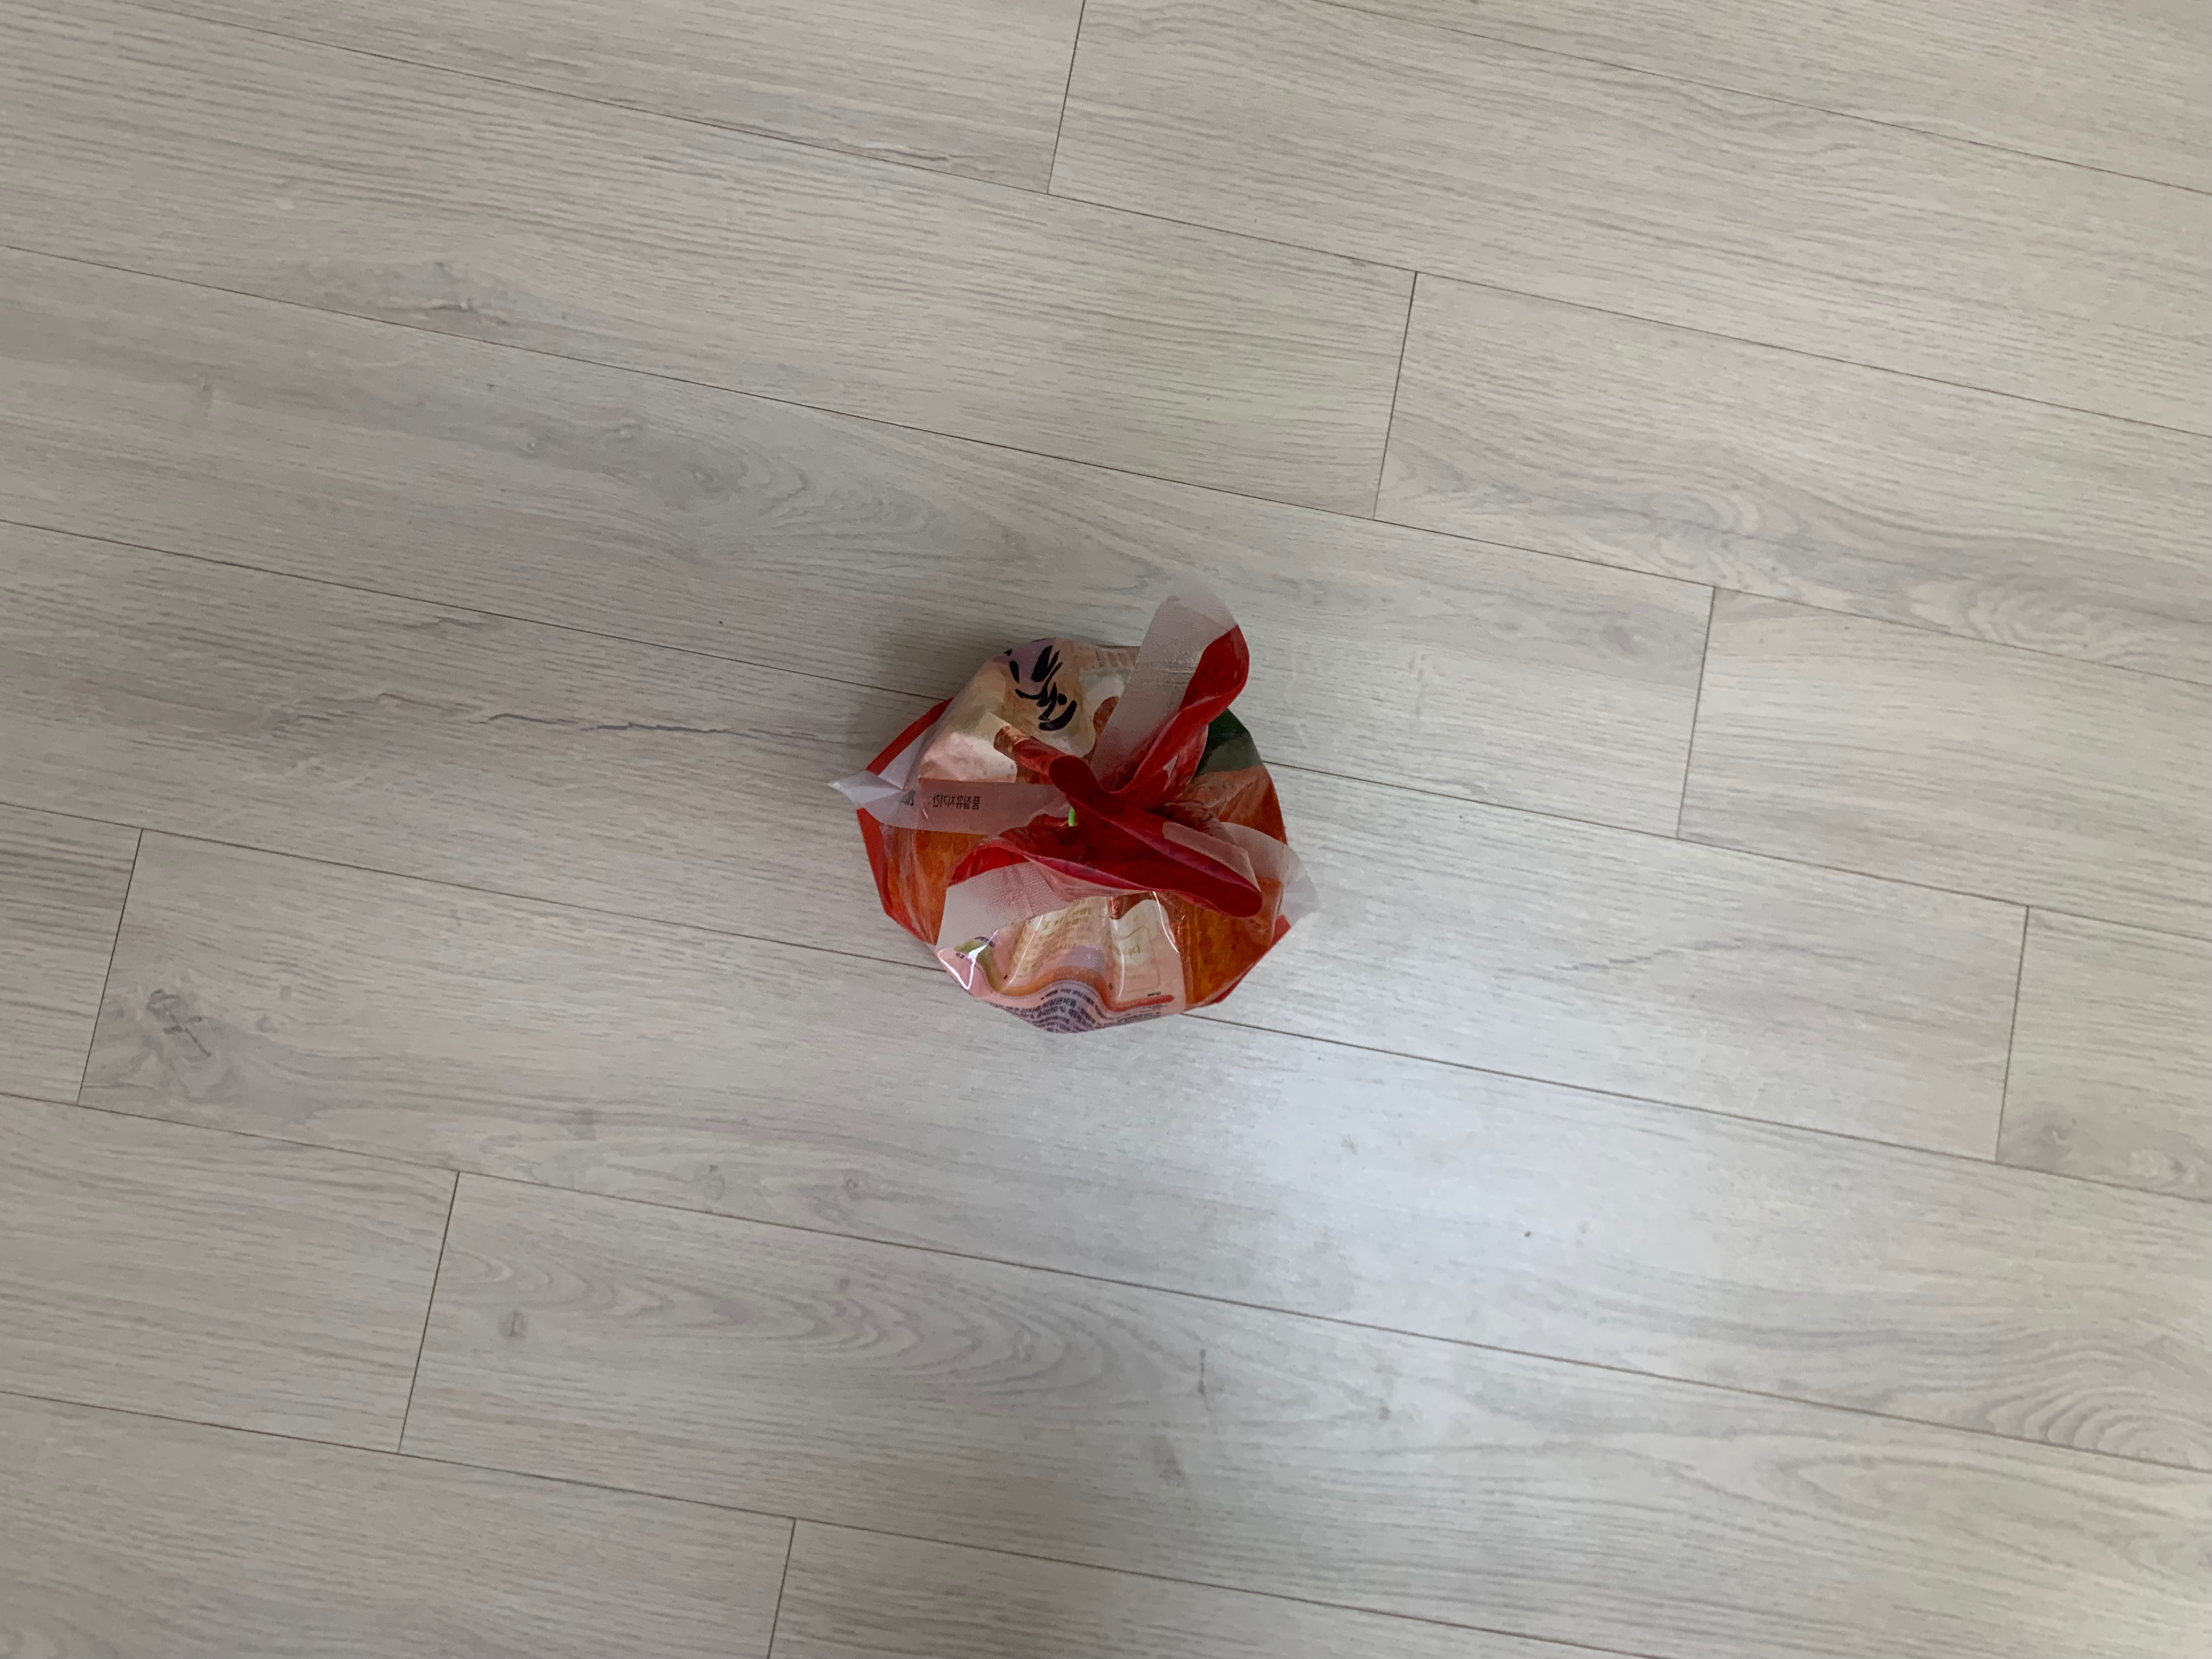kimchi: (862, 627, 1294, 1035)
